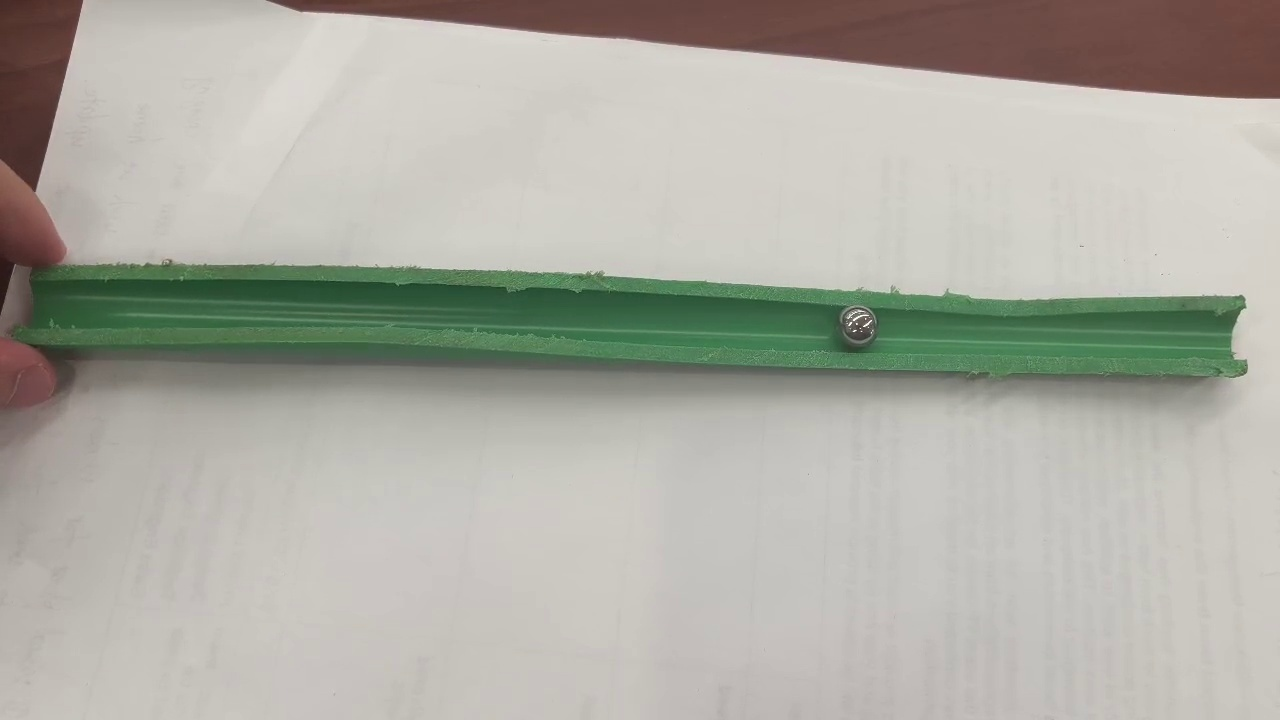ball: (840, 306, 876, 346)
